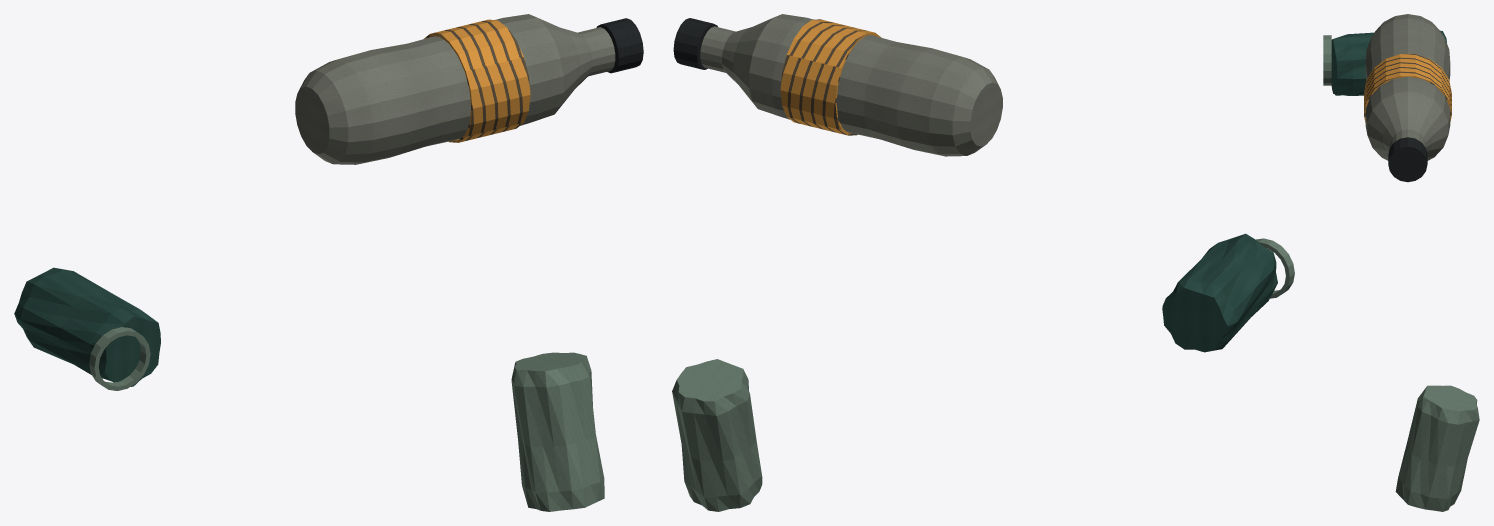
The model's file is PZ_DST_06_Discarded_Cans_And_Bottle.glb.
3 views of the same model, side by side, from view 1: azimuth 30°, elevation 25°; view 2: azimuth 150°, elevation 25°; view 3: azimuth 270°, elevation 25° (orthographic). The views are drawn at different scales.
Parts seen in each view (by area): view 1: LITTER_Bottle_01_GreenPET_Body, LITTER_Can_02_DentedAluminumScrap, LITTER_Can_01_CrumpledFictionalDRIFT_ColaCan, LITTER_Bottle_01_FadedWrapLabel, LITTER_Can_01_AluminumRim, LITTER_Bottle_01_ScrewCap; view 2: LITTER_Bottle_01_GreenPET_Body, LITTER_Can_02_DentedAluminumScrap, LITTER_Can_01_CrumpledFictionalDRIFT_ColaCan, LITTER_Bottle_01_FadedWrapLabel, LITTER_Bottle_01_ScrewCap, LITTER_Can_01_AluminumRim; view 3: LITTER_Bottle_01_GreenPET_Body, LITTER_Can_02_DentedAluminumScrap, LITTER_Can_01_CrumpledFictionalDRIFT_ColaCan, LITTER_Bottle_01_FadedWrapLabel, LITTER_Bottle_01_ScrewCap, LITTER_Can_01_AluminumRim.
Part boxes in pixels (x1,y1,x2,y2): LITTER_Bottle_01_GreenPET_Body: (295, 14, 615, 164); LITTER_Can_02_DentedAluminumScrap: (511, 352, 604, 511); LITTER_Can_01_CrumpledFictionalDRIFT_ColaCan: (14, 267, 160, 386); LITTER_Bottle_01_FadedWrapLabel: (424, 19, 530, 142); LITTER_Can_01_AluminumRim: (89, 327, 150, 390); LITTER_Bottle_01_ScrewCap: (596, 18, 643, 73); LITTER_Bottle_01_GreenPET_Body: (700, 14, 1002, 156); LITTER_Can_02_DentedAluminumScrap: (672, 359, 762, 511); LITTER_Can_01_CrumpledFictionalDRIFT_ColaCan: (1162, 233, 1277, 352); LITTER_Bottle_01_FadedWrapLabel: (780, 19, 881, 135); LITTER_Bottle_01_ScrewCap: (673, 18, 717, 69); LITTER_Can_01_AluminumRim: (1256, 238, 1294, 298); LITTER_Bottle_01_GreenPET_Body: (1365, 14, 1450, 160); LITTER_Can_02_DentedAluminumScrap: (1395, 385, 1479, 511); LITTER_Can_01_CrumpledFictionalDRIFT_ColaCan: (1331, 30, 1446, 95); LITTER_Bottle_01_FadedWrapLabel: (1364, 54, 1451, 122); LITTER_Bottle_01_ScrewCap: (1388, 137, 1427, 182); LITTER_Can_01_AluminumRim: (1323, 35, 1331, 85).
Bounding box in the file's own units: 0.5758 × 0.4713 × 0.1673.
Materials: 1 (1 with a texture image).
